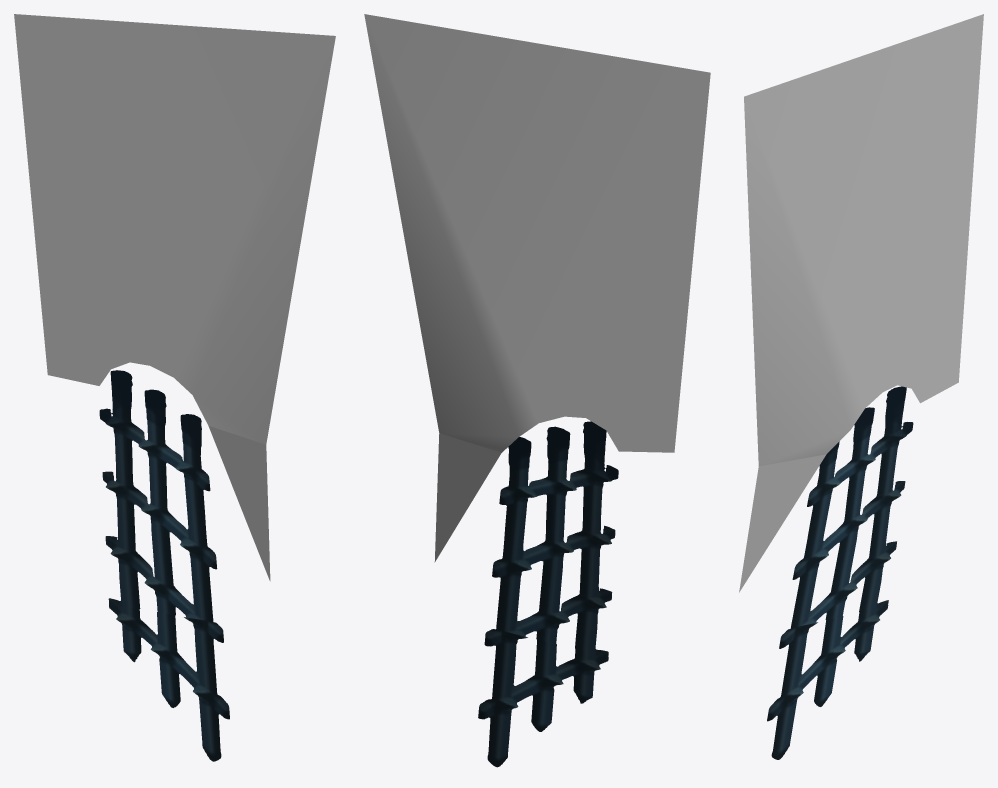
Rendered from Dark Forest Gate.FBX.
3 views of the same model, side by side, from view 1: azimuth 30°, elevation 25°; view 2: azimuth 210°, elevation 25°; view 3: azimuth 270°, elevation 25° (orthographic). The views are drawn at different scales.
Visible parts, largest first — view 1: Gate Mask, Gate; view 2: Gate Mask, Gate; view 3: Gate Mask, Gate.
Part boxes in pixels (bbox=[...]): Gate Mask: bbox=[14, 14, 335, 581]; Gate: bbox=[99, 370, 229, 761]; Gate Mask: bbox=[364, 14, 710, 562]; Gate: bbox=[478, 421, 618, 767]; Gate Mask: bbox=[739, 14, 983, 592]; Gate: bbox=[767, 386, 913, 759].
Size of the model in its own units: 160 by 167 by 541.
